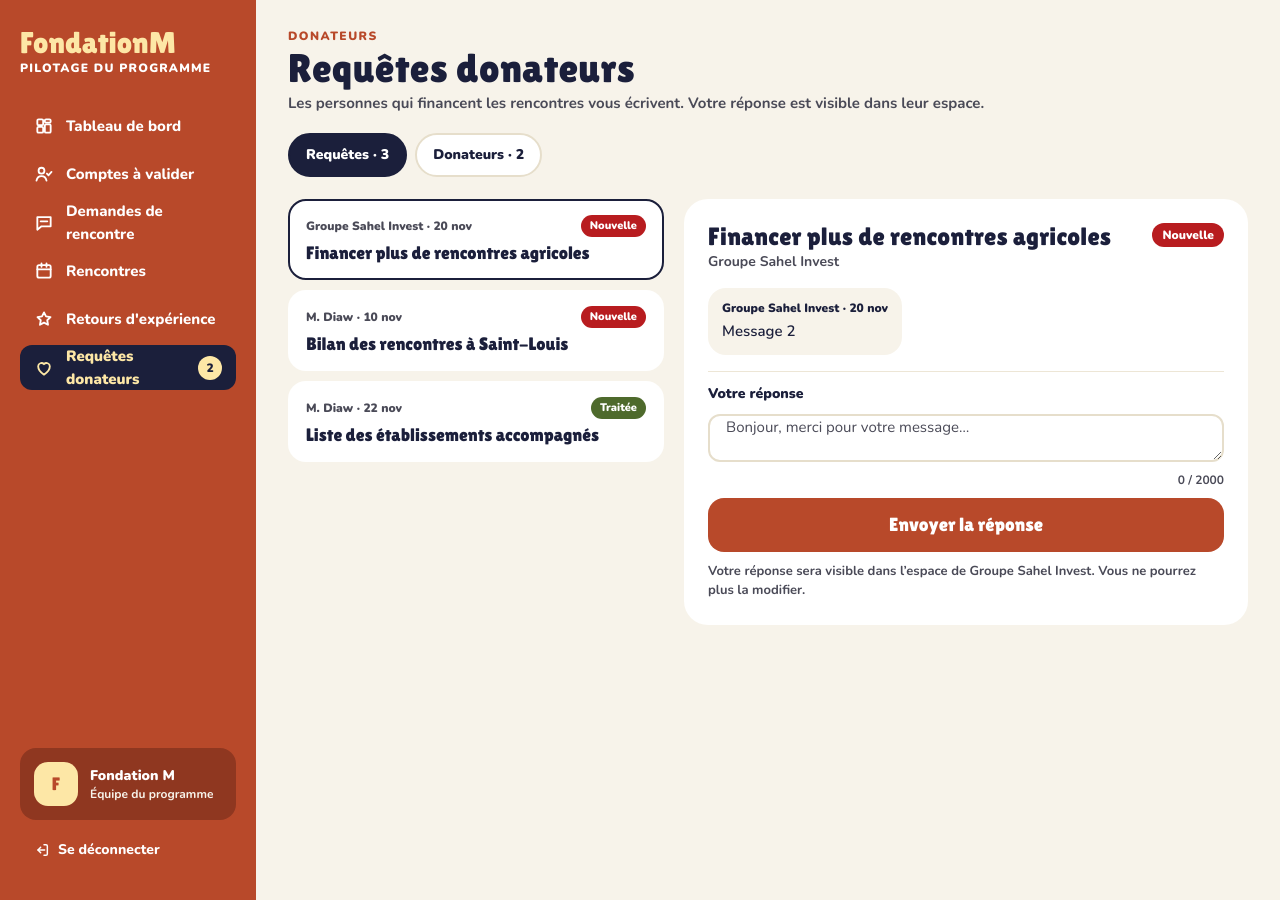
Test: Requêtes donateurs › montre une requête répondue avec la bulle de la Fondation, sans formulaire
The width and height of the screenshot is (1280, 900).
Click the button "Liste des établissements".
click(476, 422)  # box [288,381,664,462]
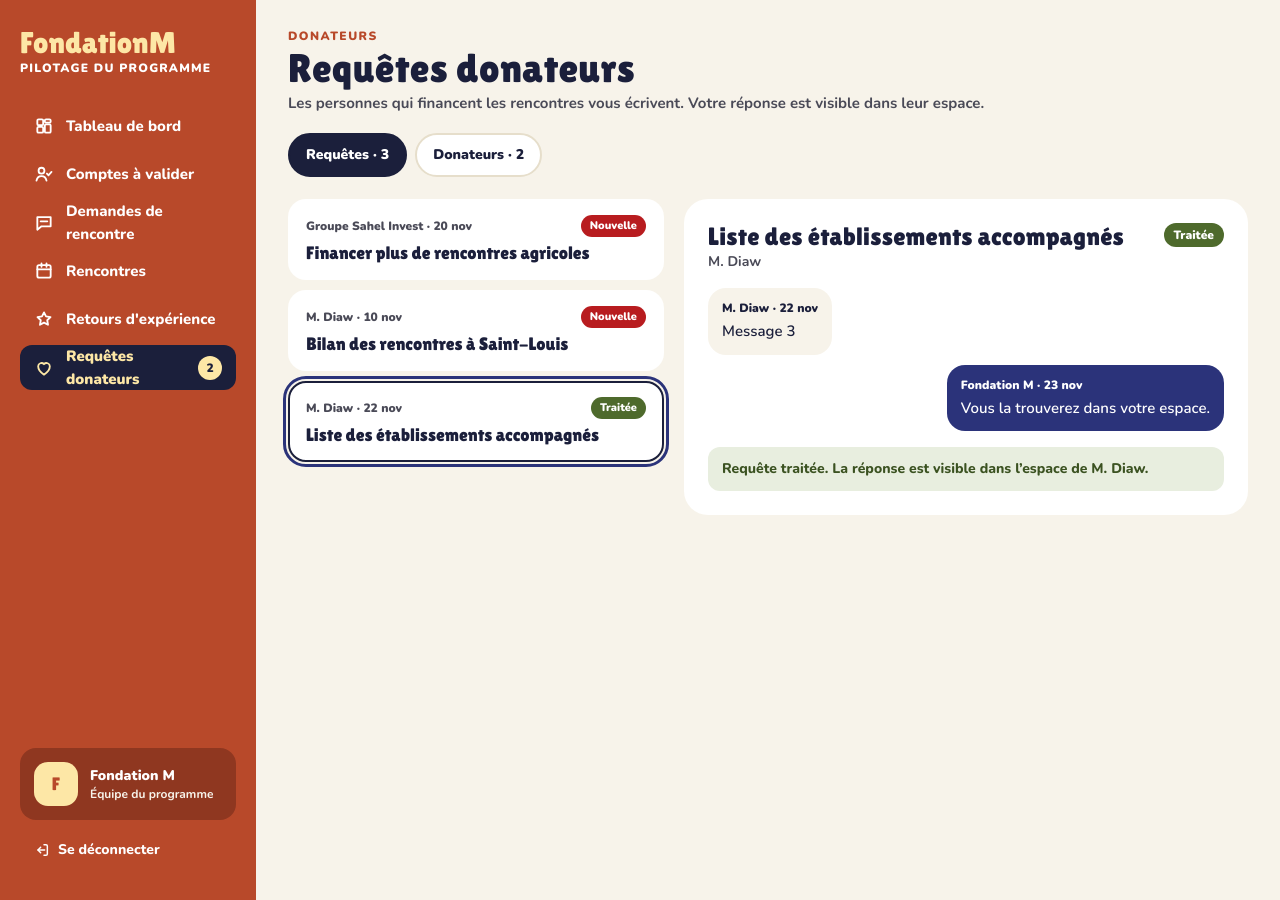
Expected: the text "Vous la trouverez dans votre espace." is shown, [961,396,1210,419]
Expected: the text "Fondation M · 23 nov" is shown, [961,376,1082,392]
Expected: the text "Requête traitée. La réponse est visible dans l’espace de M. Diaw." is shown, [708,447,1224,491]
